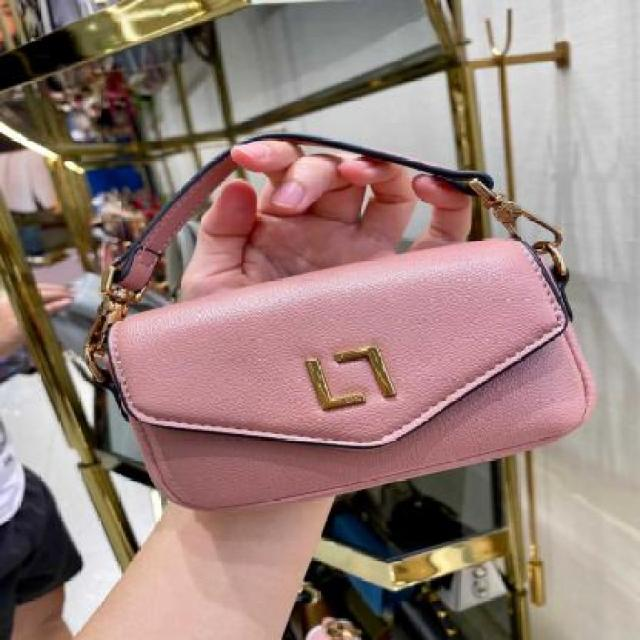Bag: (33, 89, 622, 523)
